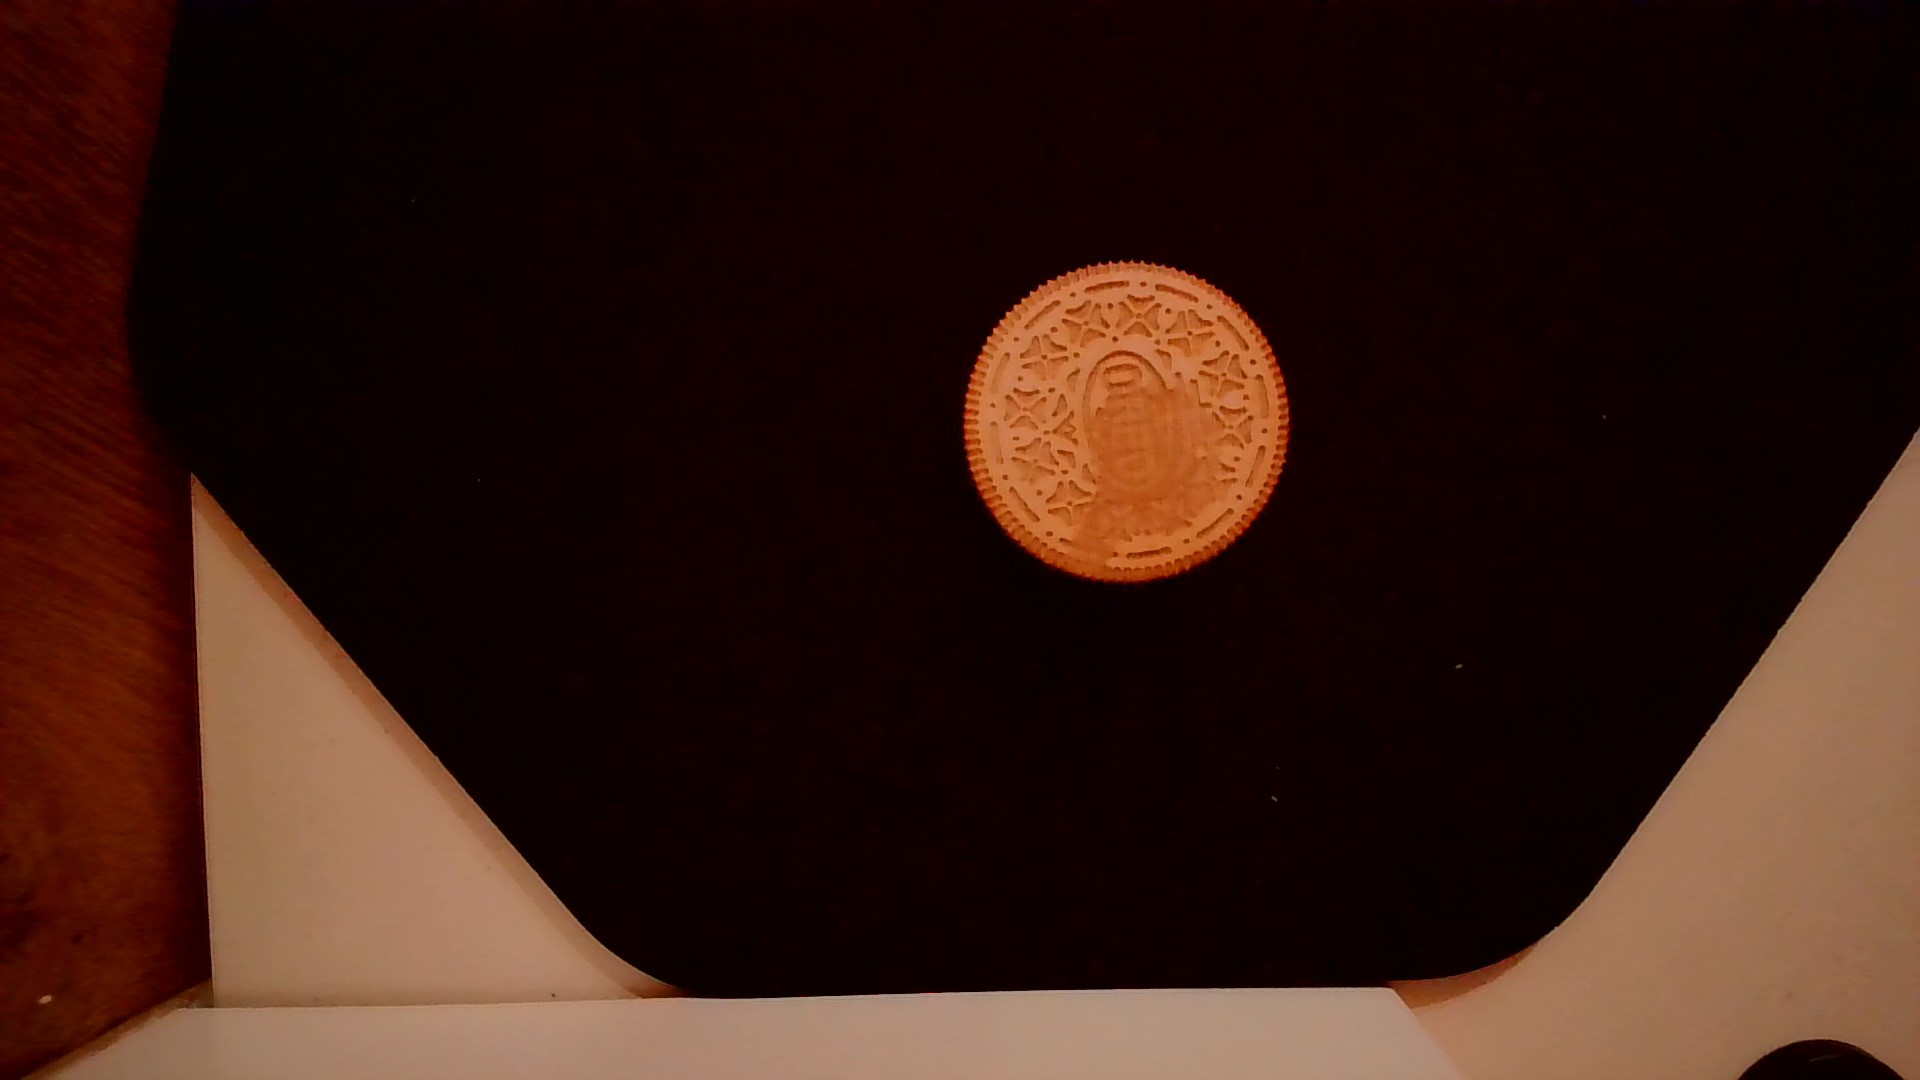Effacé: (1071, 392, 1212, 556)
Oréo: (952, 251, 1294, 591)
